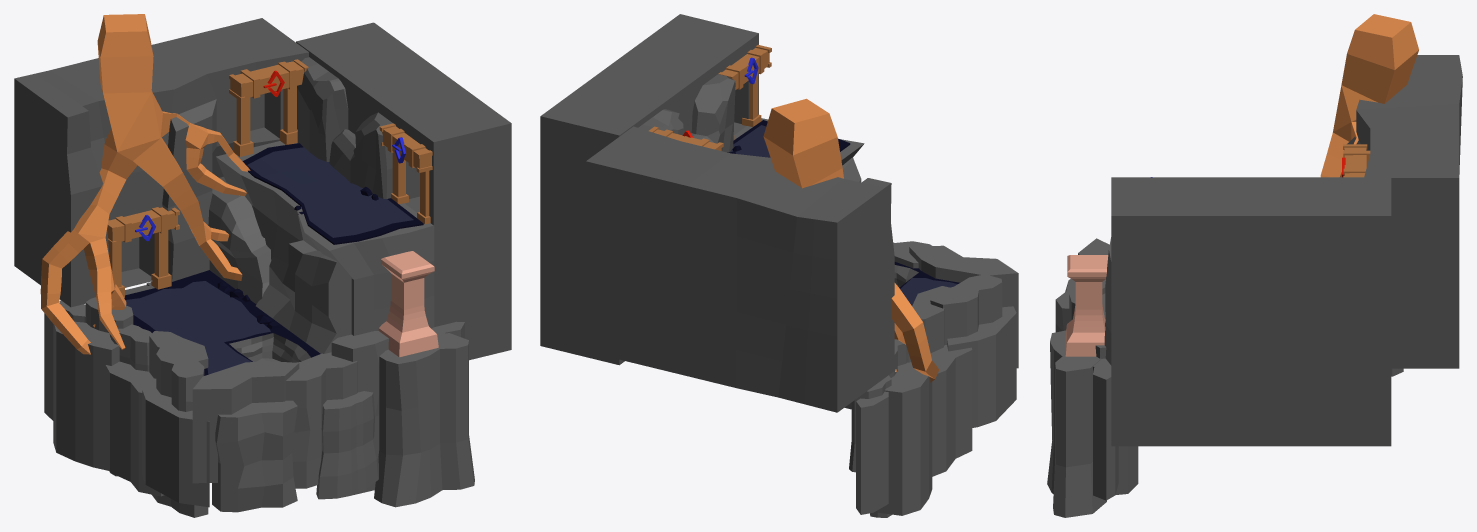
The model's file is Stage02 withhole.fbx.
3 views of the same model, side by side, from view 1: azimuth 30°, elevation 25°; view 2: azimuth 150°, elevation 25°; view 3: azimuth 270°, elevation 25° (orthographic).
Visible parts, largest first — view 1: Floor02, tree, Cube.010, floorlightlower, pillar, Wallrock01, exitsign01, wallrock02, exitsign01.001, exitsign01.002, Cube.006; view 2: Floor02, tree, wallrock02, exitsign01.002, Cube.010, Wallrock01, floorlightlower, exitsign01; view 3: Floor02, tree, pillar, exitsign01.
Boxes of the visible parts, bbox=[...] form: Floor02: bbox=[14, 18, 511, 517]; tree: bbox=[40, 14, 250, 354]; Cube.010: bbox=[247, 147, 413, 237]; floorlightlower: bbox=[125, 281, 270, 374]; pillar: bbox=[378, 251, 438, 357]; Wallrock01: bbox=[297, 57, 348, 161]; exitsign01: bbox=[229, 59, 308, 156]; wallrock02: bbox=[329, 112, 392, 198]; exitsign01.001: bbox=[107, 207, 179, 297]; exitsign01.002: bbox=[379, 123, 432, 224]; Cube.006: bbox=[242, 143, 423, 244]; Floor02: bbox=[540, 14, 1018, 517]; tree: bbox=[763, 98, 938, 382]; wallrock02: bbox=[691, 74, 735, 152]; exitsign01.002: bbox=[718, 44, 771, 139]; Cube.010: bbox=[730, 125, 770, 157]; Wallrock01: bbox=[638, 109, 683, 135]; floorlightlower: bbox=[900, 278, 957, 305]; exitsign01: bbox=[649, 126, 723, 150]; Floor02: bbox=[1047, 55, 1462, 517]; tree: bbox=[1320, 14, 1418, 177]; pillar: bbox=[1065, 255, 1108, 356]; exitsign01: bbox=[1342, 144, 1370, 177].
Bounding box in the file's own units: 2389 × 2578 × 2372.
